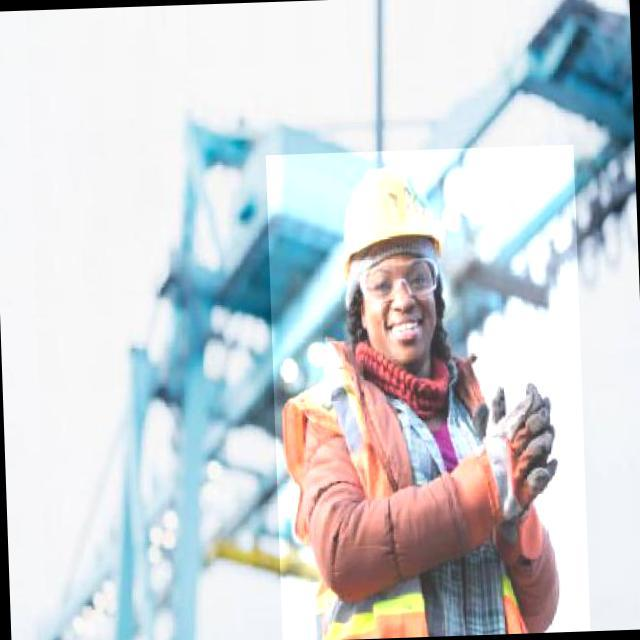Gloves: (479, 376, 565, 530)
Helmet: (340, 165, 445, 272)
Person: (267, 150, 592, 640)
Safety Vest: (280, 357, 535, 640)
